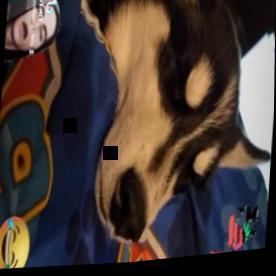nasal_discharge: (106, 222, 130, 250)
